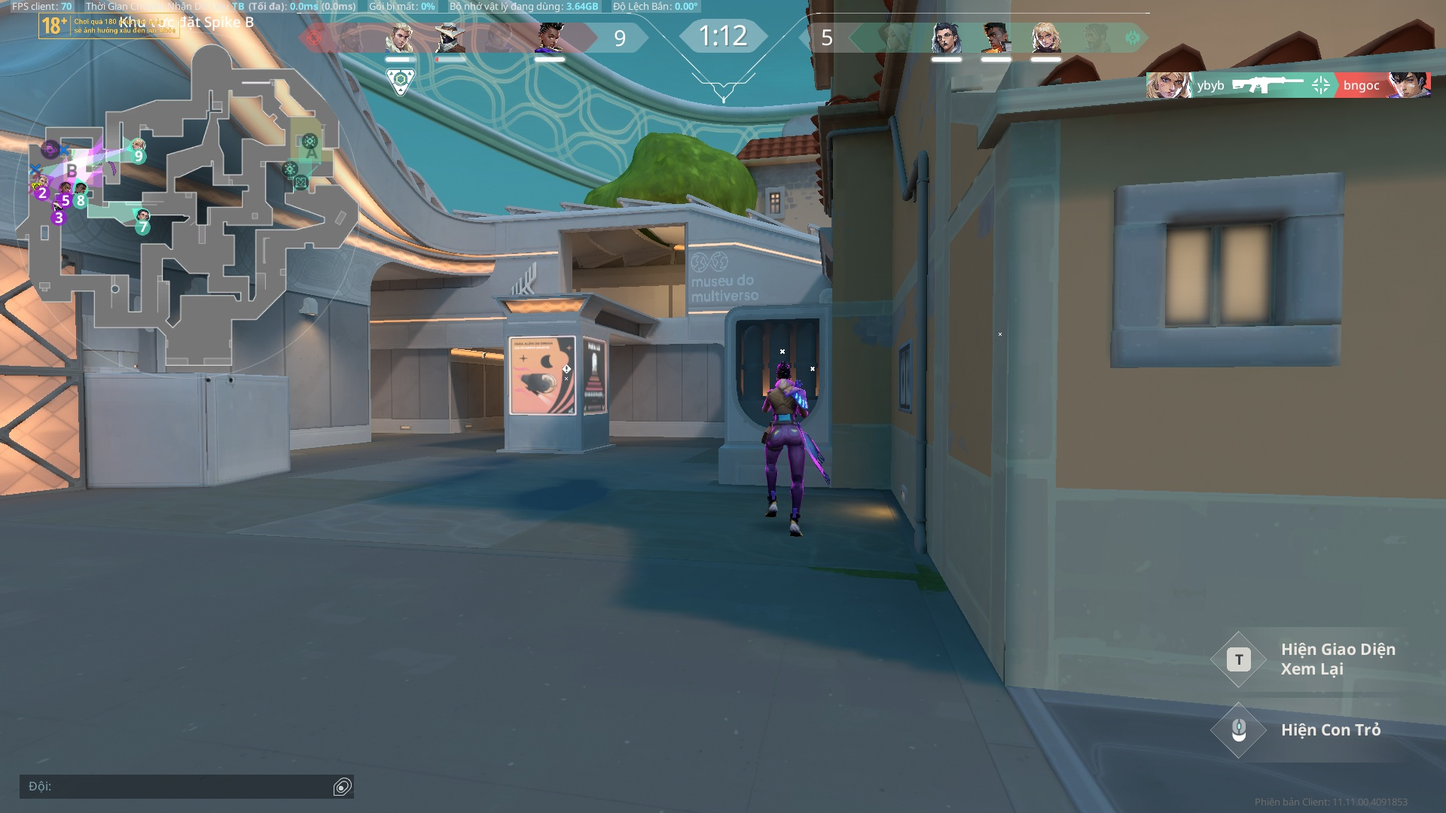body: (765, 381, 807, 422)
head: (775, 363, 792, 382)
